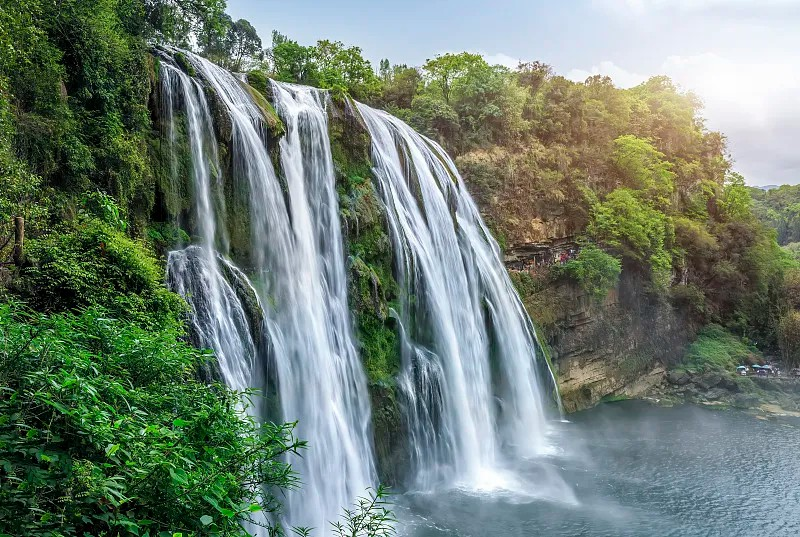Huangguoshu: (151, 43, 565, 537)
